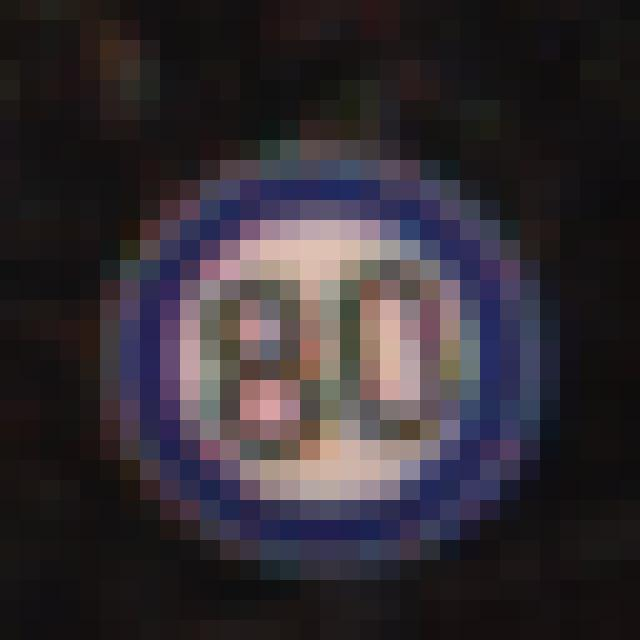SPEED-LIMIT-80: (106, 143, 552, 576)
